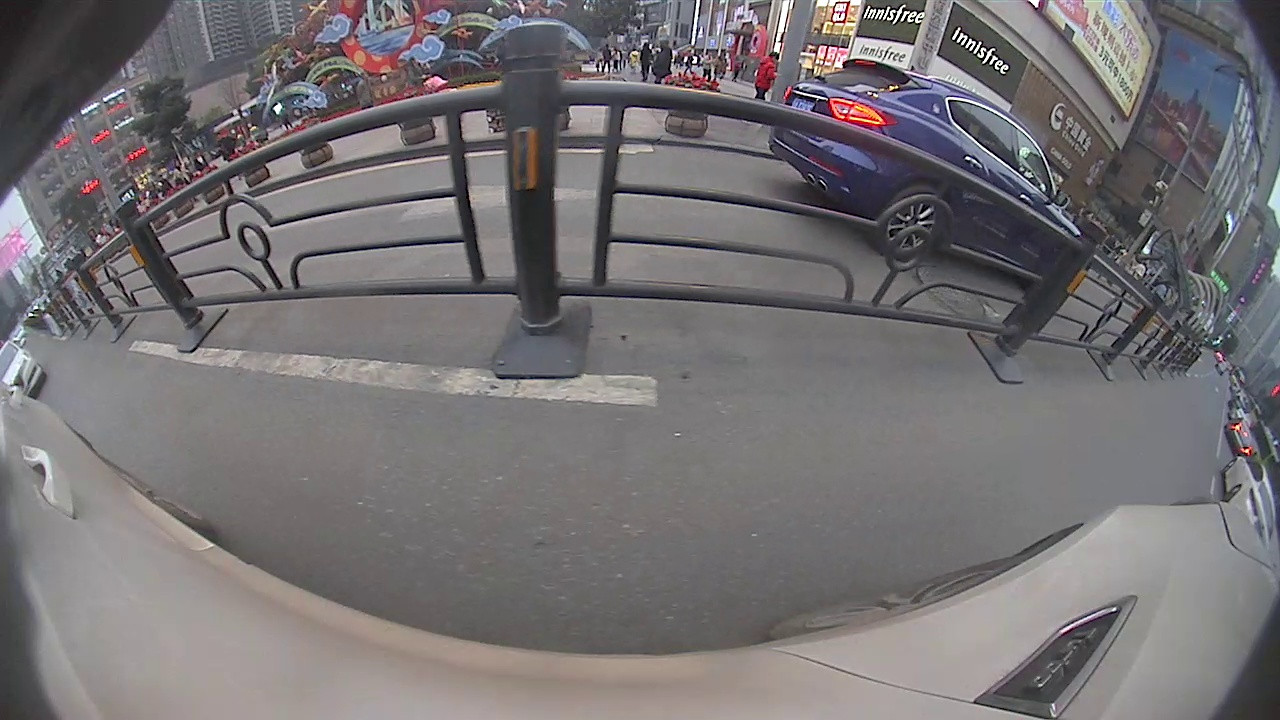car: (769, 57, 1082, 292), (1223, 457, 1276, 539)
person: (756, 50, 779, 111)
rear: (879, 185, 947, 261)
